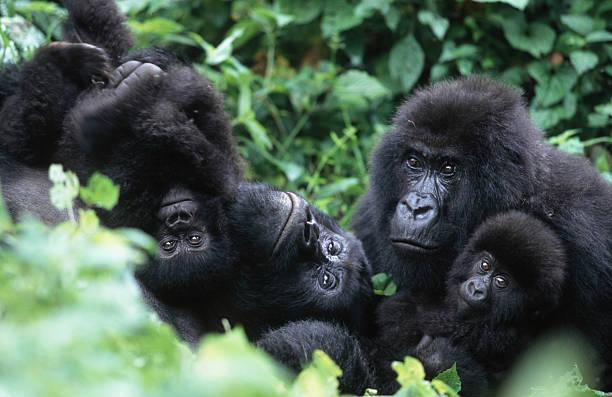goriile_montagne: (39, 53, 268, 330), (350, 72, 548, 353), (234, 134, 381, 371), (427, 199, 575, 350)
